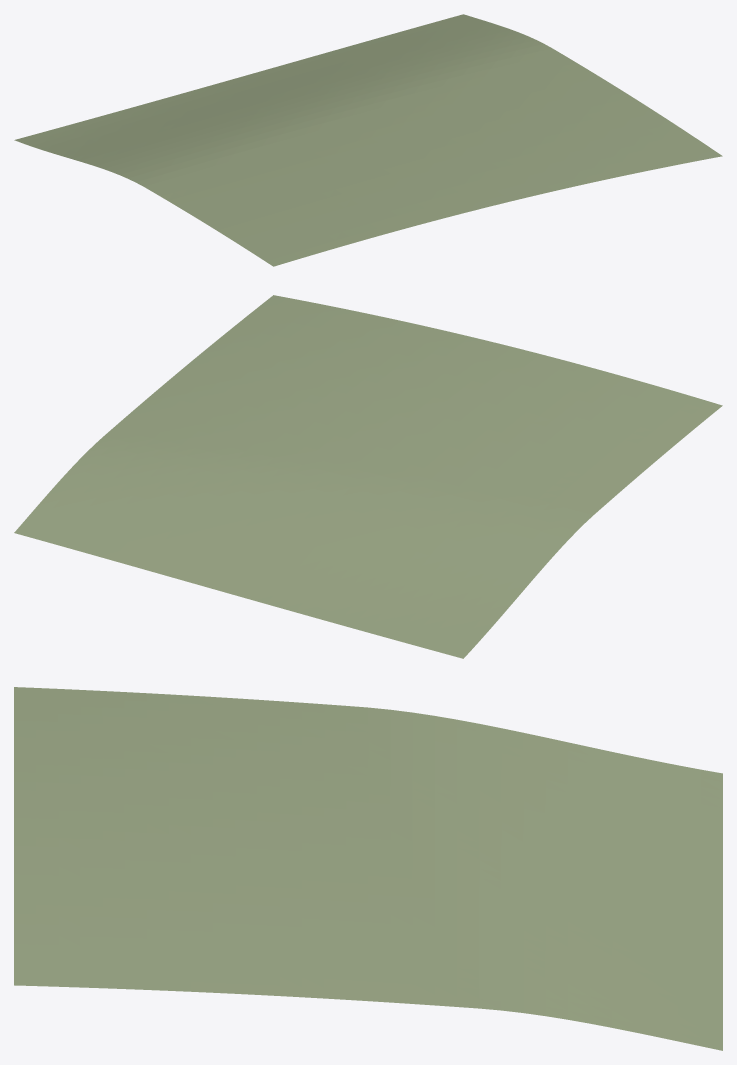
Rendered from valley-15-9.glb.
The picture shows the model from 3 angles, top to bottom: view 1: azimuth 30°, elevation 25°; view 2: azimuth 150°, elevation 25°; view 3: azimuth 270°, elevation 25°; orthographic projection. The views are drawn at different scales.
Parts seen in each view (by area): view 1: valley-15-9; view 2: valley-15-9; view 3: valley-15-9.
Boxes of the visible parts, x1,y1,x2,y2 form: valley-15-9: (14, 14, 722, 266); valley-15-9: (14, 295, 722, 658); valley-15-9: (14, 687, 722, 1050).
Bounding box in the file's own units: 256 × 38.47 × 256.
